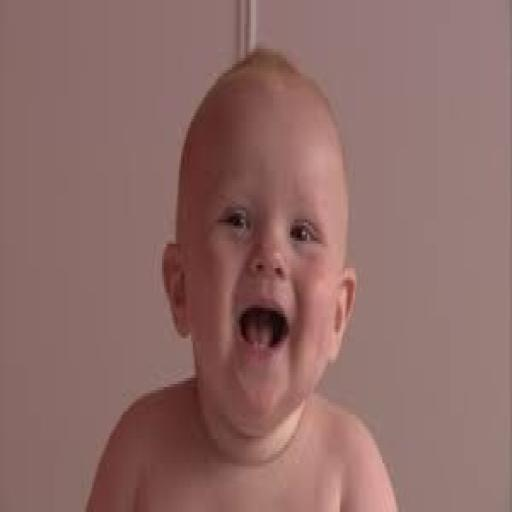laughing: (78, 40, 404, 506)
